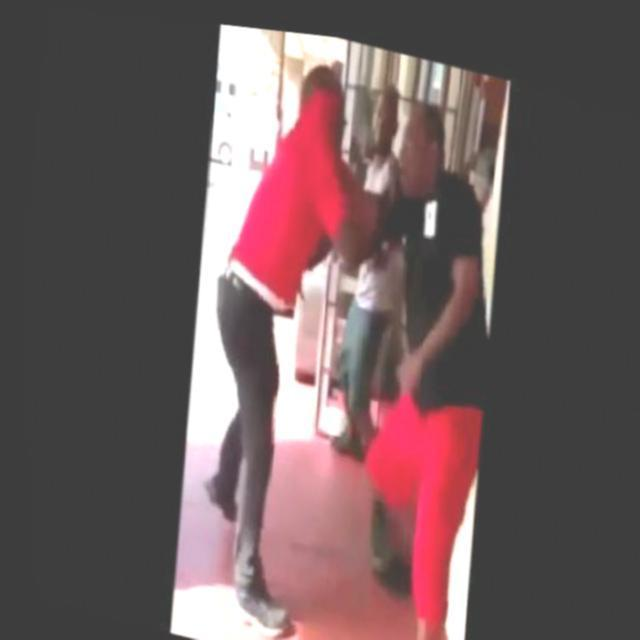fight: (165, 30, 532, 640)
